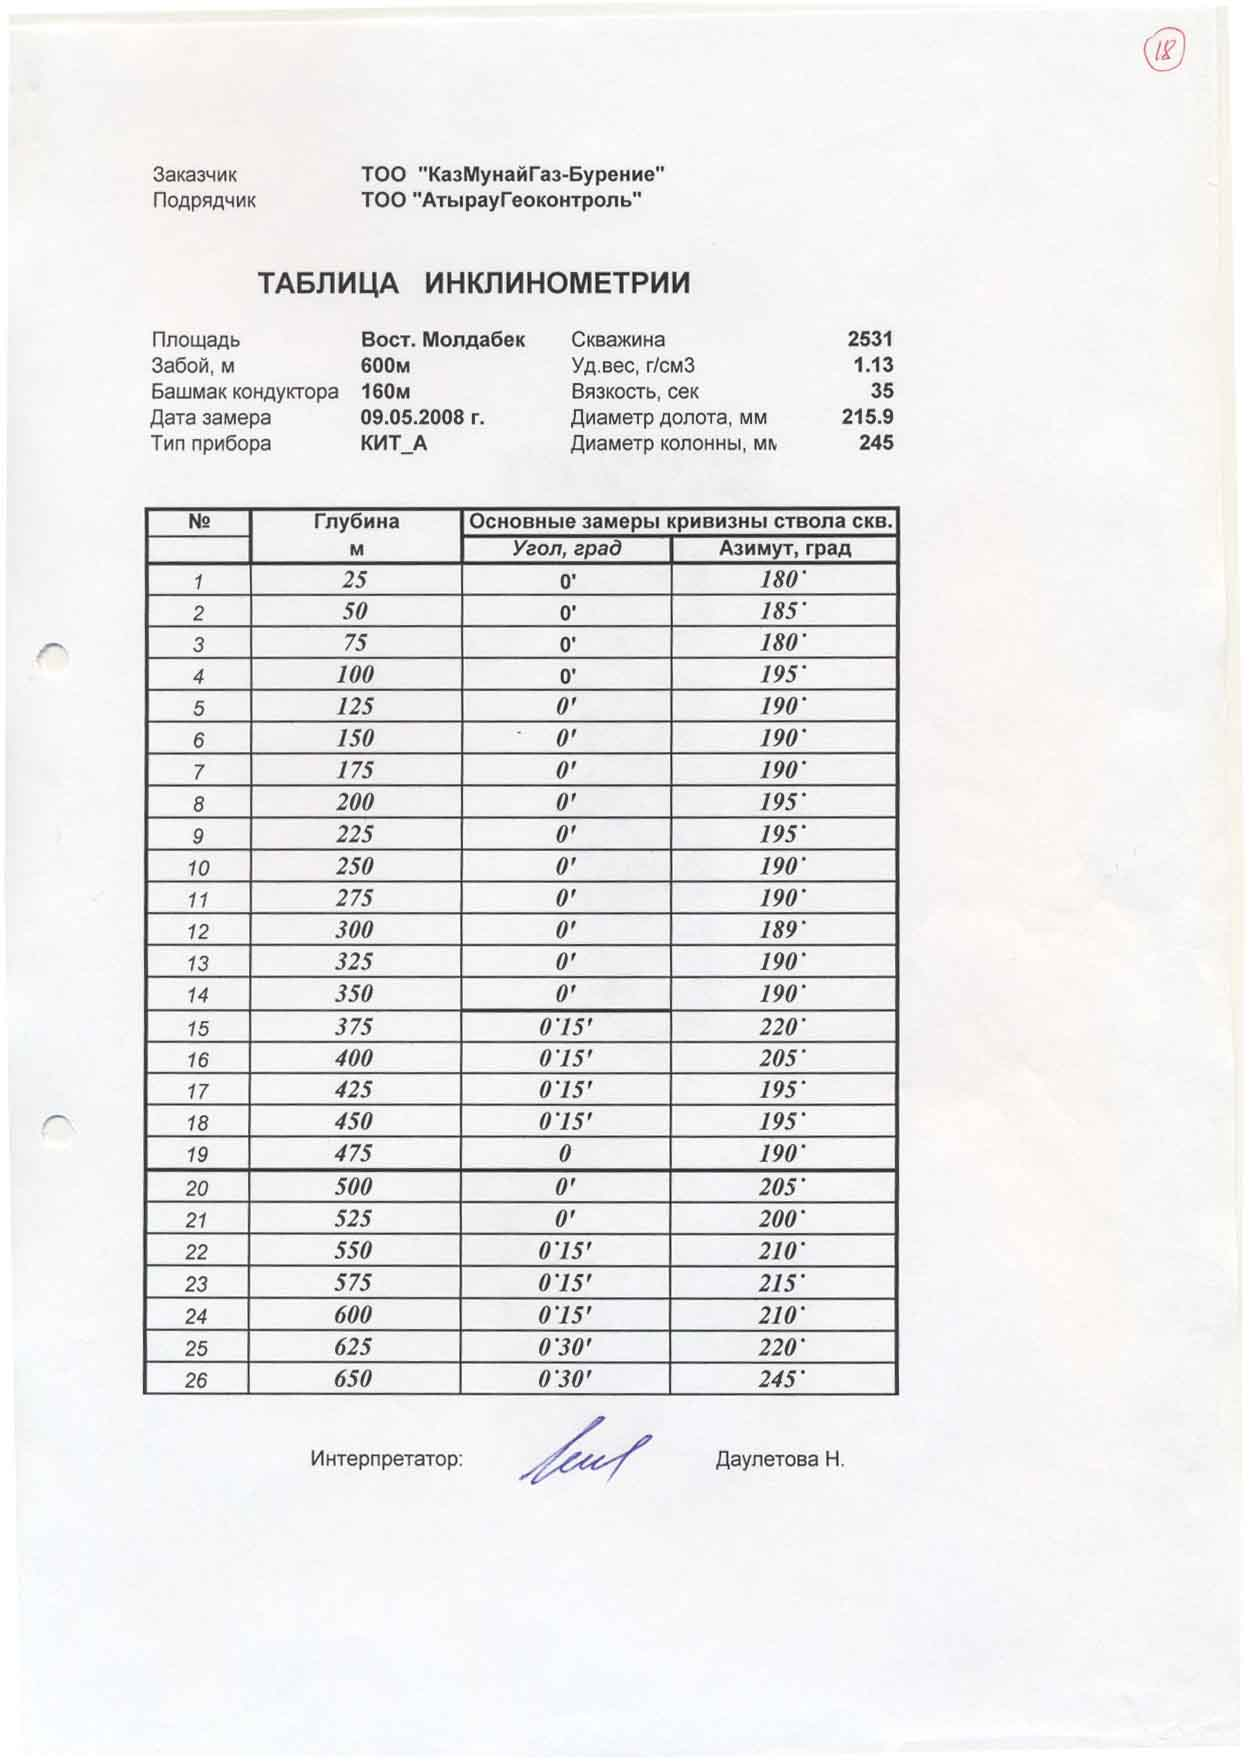Bordered: (141, 506, 901, 1400)
